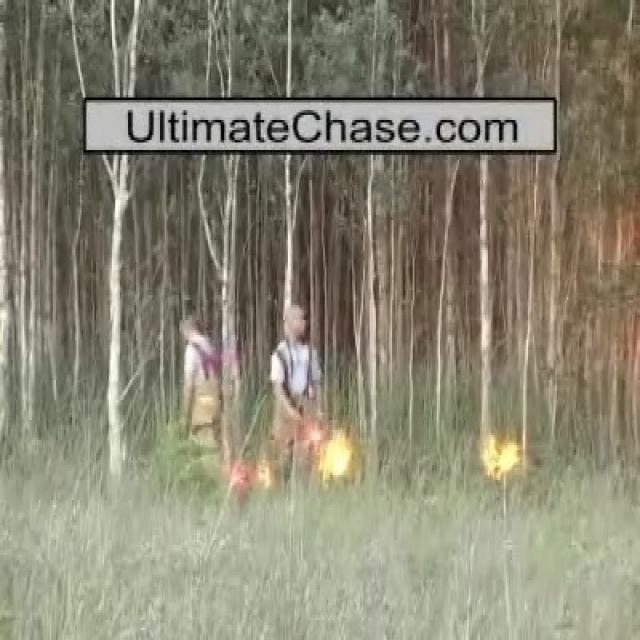fire: (483, 436, 518, 478), (322, 432, 351, 480)
